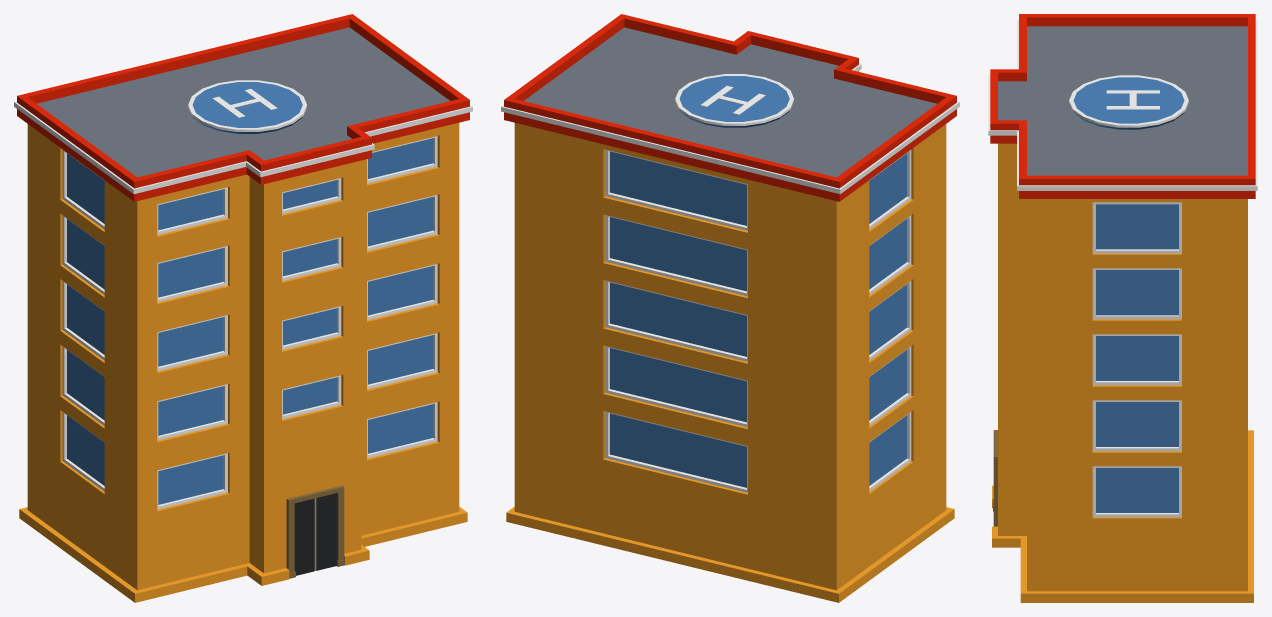
The model's file is Building_3.fbx.
3 renders of one model, left to right at view 1: azimuth 30°, elevation 25°; view 2: azimuth 150°, elevation 25°; view 3: azimuth 270°, elevation 25°, orthographic.
Parts seen in each view (by area): view 1: Building_3; view 2: Building_3; view 3: Building_3.
Boxes of the visible parts, x1,y1,x2,y2 form: Building_3: (14, 14, 472, 602); Building_3: (501, 14, 959, 602); Building_3: (988, 14, 1257, 602).
Size of the model in its own units: 1453 by 1728 by 994.
